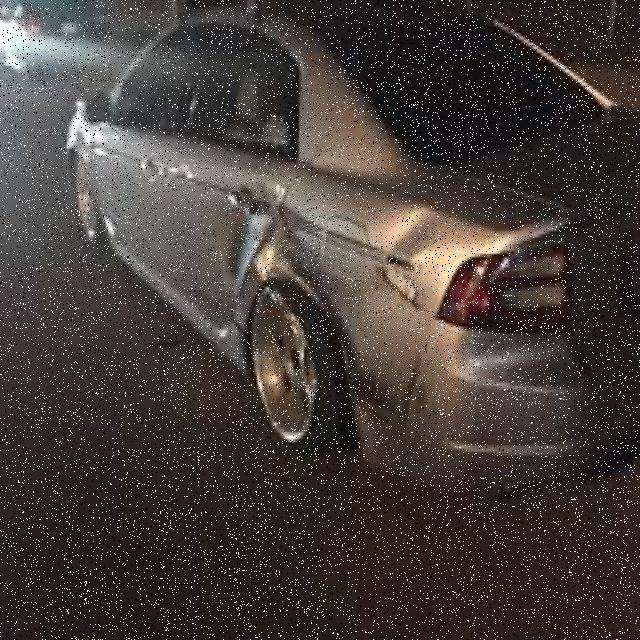doorouter-dent: (168, 148, 272, 306)
quaterpanel-dent: (284, 168, 430, 382)
